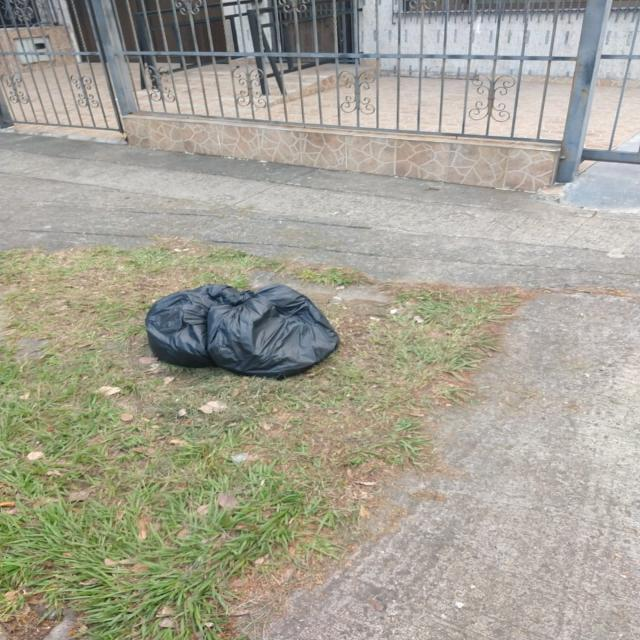Trashbag: (207, 282, 346, 380), (132, 276, 211, 378)
